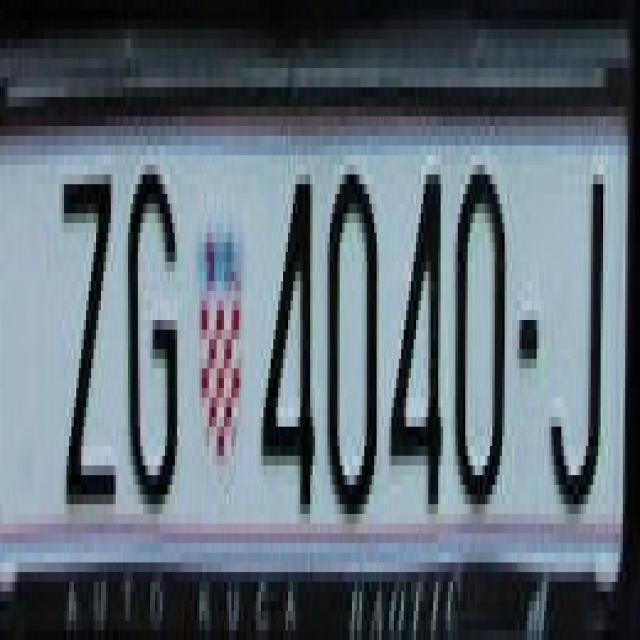0: (450, 155, 510, 504), (328, 164, 377, 524)
4: (256, 165, 320, 533), (389, 136, 448, 514)
G: (128, 146, 187, 504)
Z: (62, 165, 118, 504)
